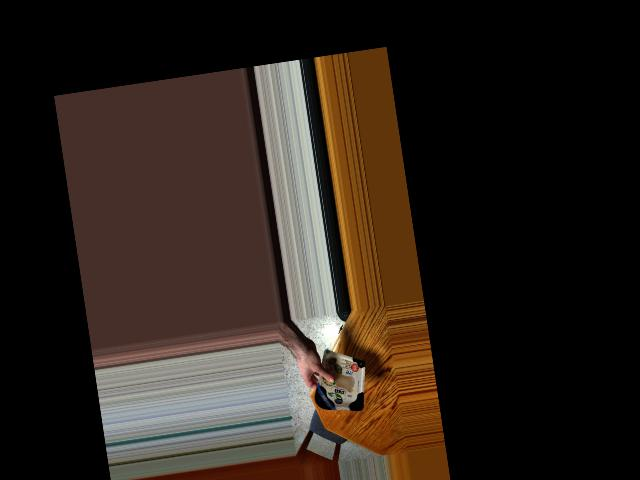cheese: (311, 354, 370, 415)
